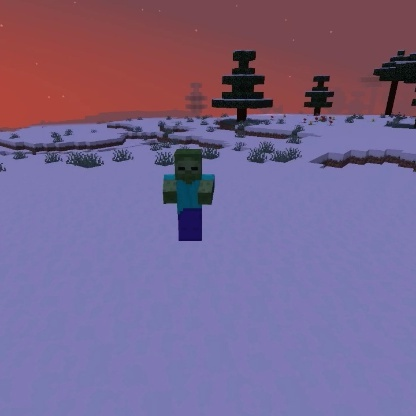zombie: (159, 145, 217, 244)
